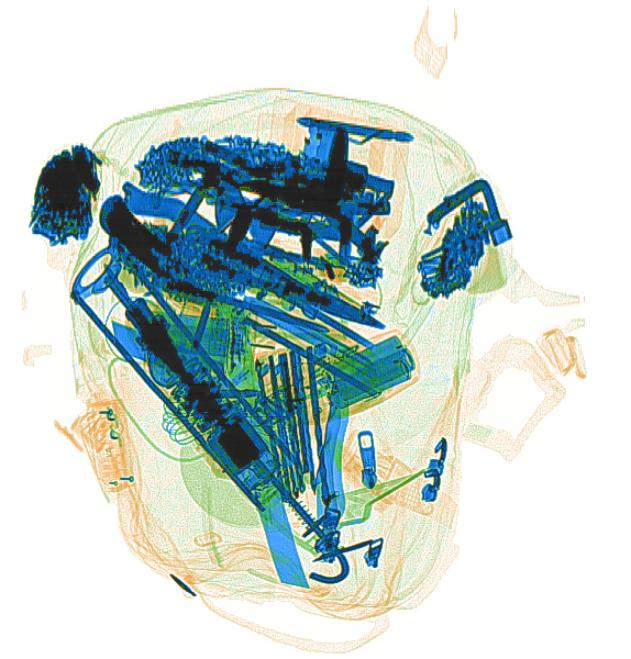battery: (316, 332, 416, 411), (142, 305, 231, 356)
